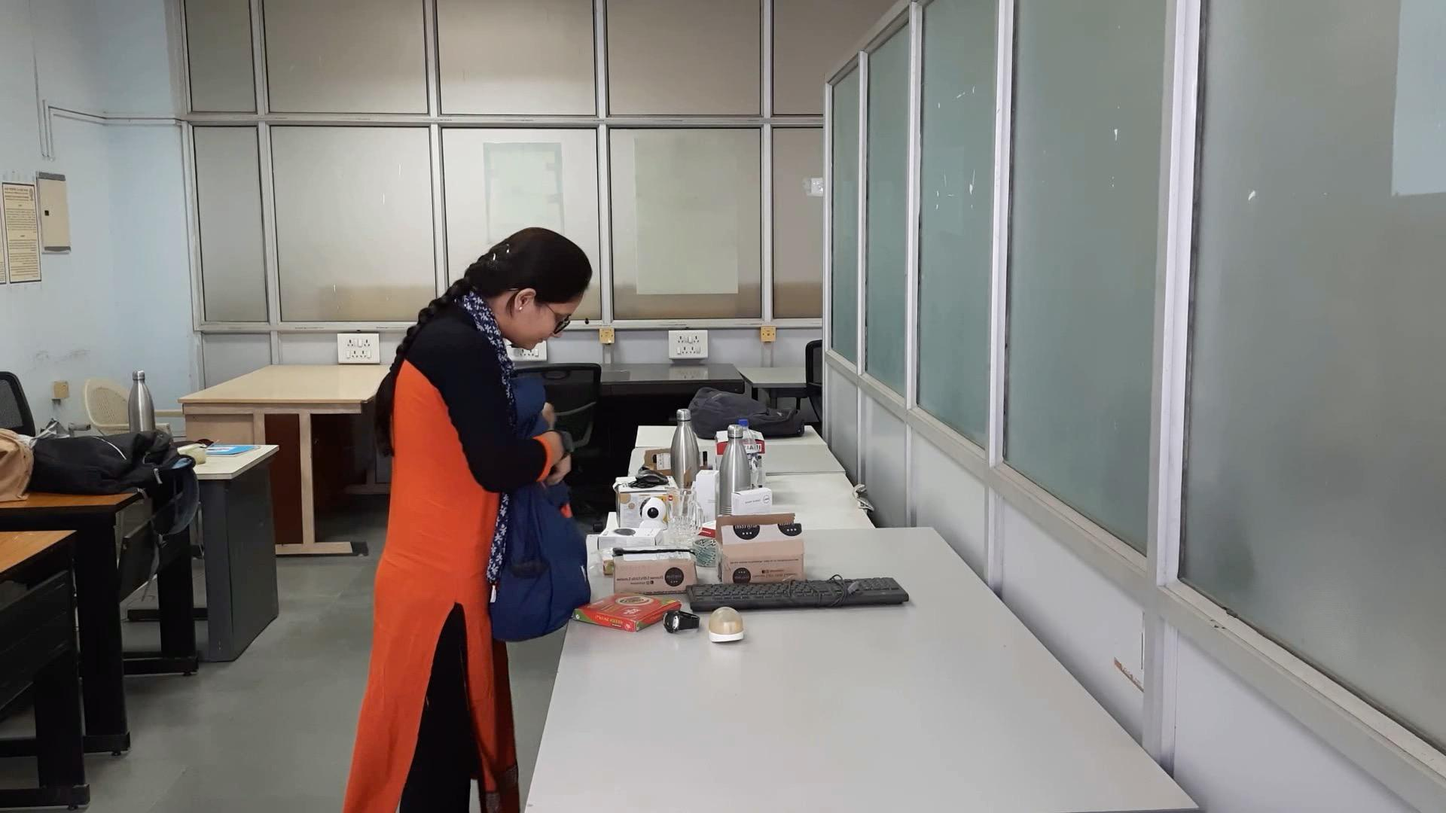shoplifting: (354, 342, 775, 684)
